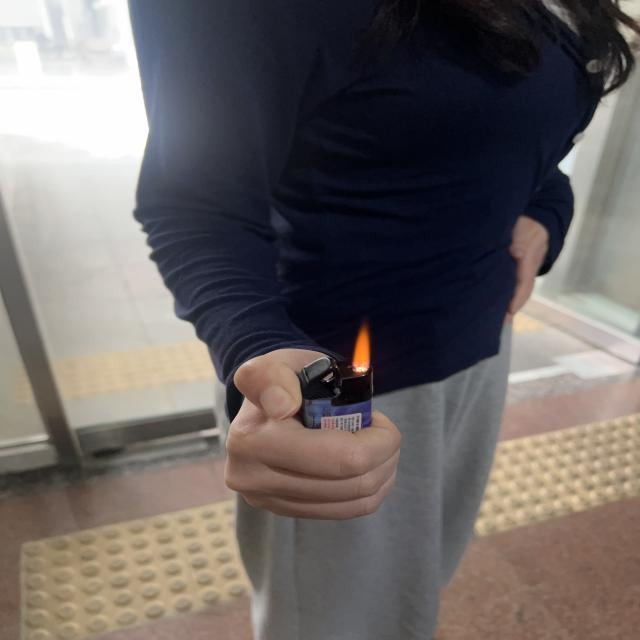fire: (352, 324, 371, 374)
